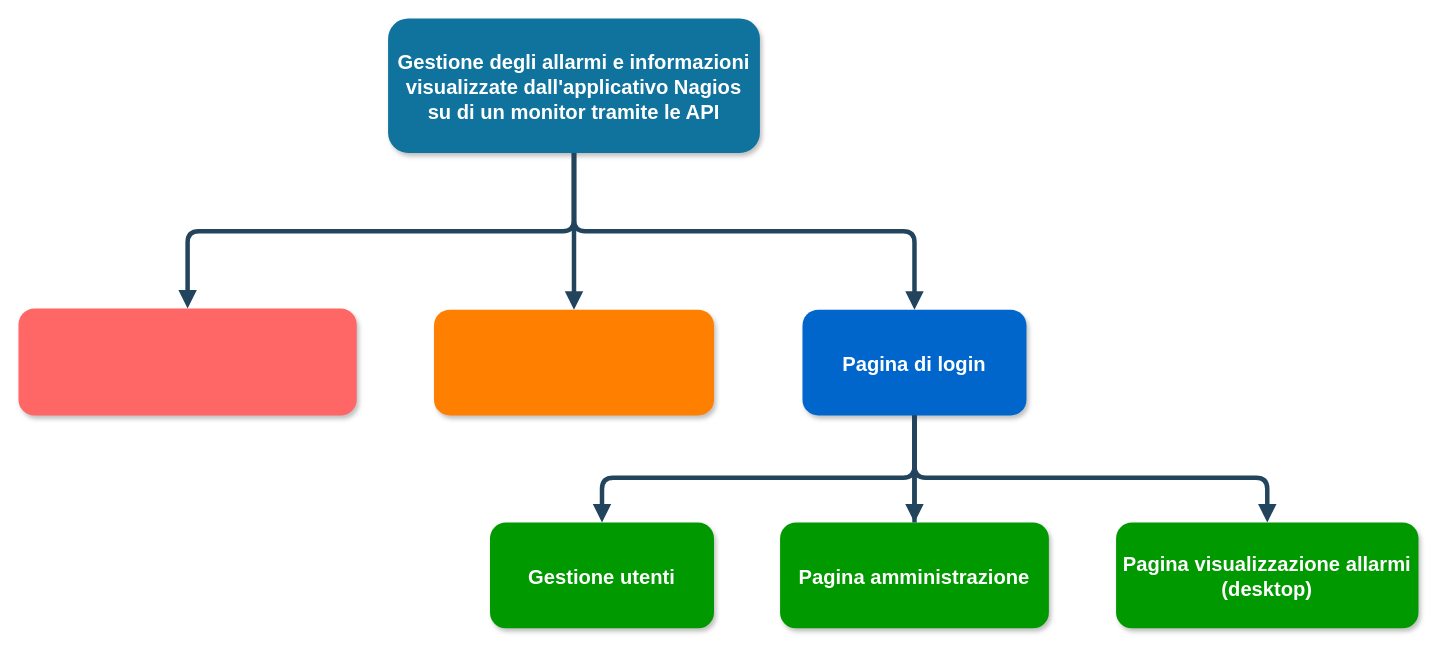
Some shapes in this 1437 by 646 pixel diagram are drawn without their labels. The centre of each missing label's shape, as x and y in pixels:
Pagina modifica password: (574,364)
Pagina visualizzazione allarmi (monitor esterno): (188,363)
